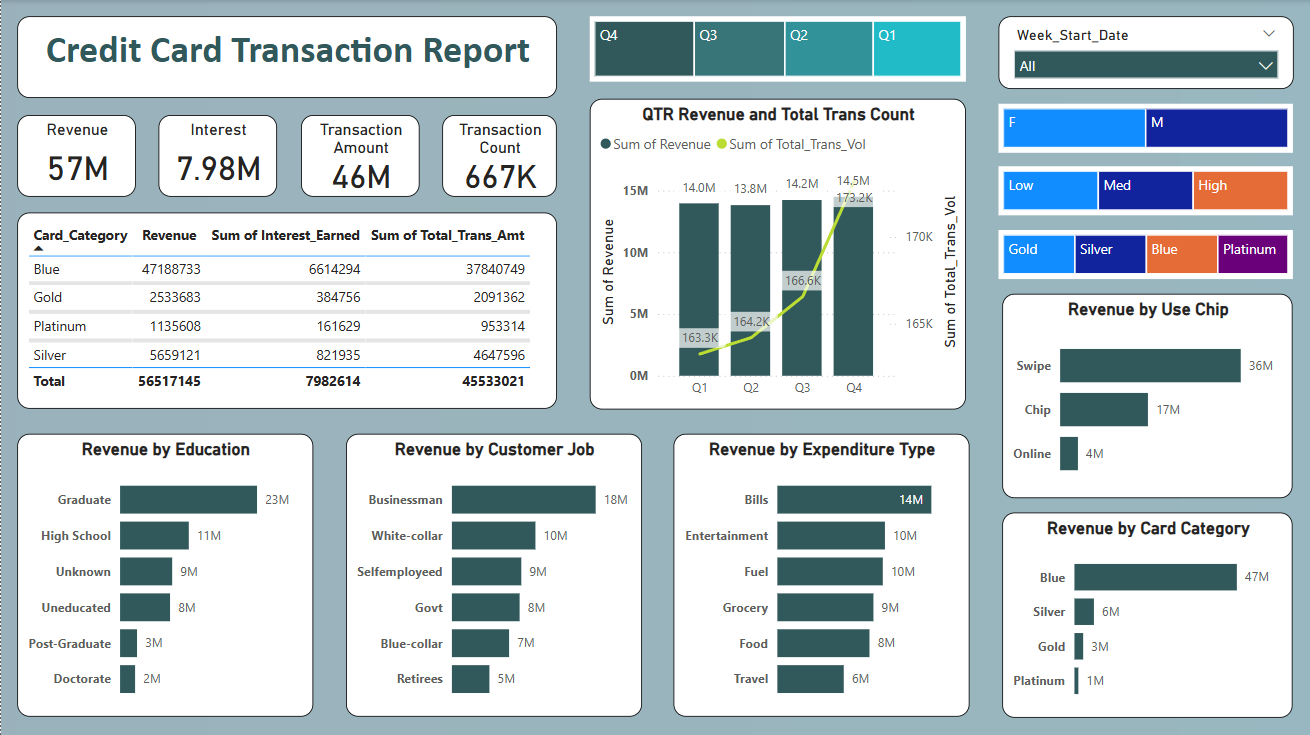

What the dashboard file says about the page in this screenshot:
{"tool":"powerbi","page":{"name":"CC_Transaction","canvas":[1280,720],"ordinal":1},"visuals":[{"type":"textbox","box":[16,16,528,80],"z":0},{"type":"lineStackedColumnComboChart","title":"QTR Revenue and Total Trans Count","fields":{"Category":["ccdb cc_detail.Qtr"],"Y":["Sum(ccdb cc_detail.Revenue)"],"Y2":["Sum(ccdb cc_detail.Total_Trans_Vol)"]},"box":[576,96,368,304],"z":1000},{"type":"barChart","title":"Revenue by Expenditure Type","fields":{"Y":["Sum(ccdb cc_detail.Revenue)"],"Category":["ccdb cc_detail.Exp Type"]},"box":[658.5,424.6,289.2,276.9],"z":2000},{"type":"barChart","title":"Revenue by Education","fields":{"Y":["Sum(ccdb cc_detail.Revenue)"],"Category":["ccdb cust_detail.Education_Level"]},"box":[16,424.6,289.2,276.9],"z":3000},{"type":"barChart","title":"Revenue by Customer Job","fields":{"Y":["Sum(ccdb cc_detail.Revenue)"],"Category":["ccdb cust_detail.Customer_Job"]},"box":[337.2,424.6,289.2,276.9],"z":4000},{"type":"barChart","title":"Revenue by Card Category","fields":{"Y":["Sum(ccdb cc_detail.Revenue)"],"Category":["ccdb cc_detail.Card_Category"]},"box":[979.7,500.9,284.3,200.6],"z":5000},{"type":"barChart","title":"Revenue by Use Chip","fields":{"Y":["Sum(ccdb cc_detail.Revenue)"],"Category":["ccdb cc_detail.Use Chip"]},"box":[979.7,287,284.3,200],"z":6000},{"type":"tableEx","fields":{"Values":["ccdb cc_detail.Card_Category","Sum(ccdb cc_detail.Revenue)","Sum(ccdb cc_detail.Interest_Earned)","Sum(ccdb cc_detail.Total_Trans_Amt)"]},"box":[16,208,528,192],"z":7000},{"type":"card","title":"Revenue","fields":{"Values":["Sum(ccdb cc_detail.Revenue)"]},"box":[16,112,116,80],"z":8000},{"type":"card","title":"Interest","fields":{"Values":["Sum(ccdb cc_detail.Interest_Earned)"]},"box":[154.7,112,116,80],"z":9000},{"type":"card","title":"Transaction Amount","fields":{"Values":["Sum(ccdb cc_detail.Total_Trans_Amt)"]},"box":[293.3,112,116,80],"z":10000},{"type":"card","title":"Transaction Count","fields":{"Values":["Sum(ccdb cc_detail.Total_Trans_Vol)"]},"box":[432,112,112,80],"z":11000},{"type":"slicer","fields":{"Values":["ccdb cc_detail.Week_Start_Date"]},"box":[975.5,15.9,288.5,70.9],"z":12000},{"type":"treemap","fields":{"Group":["ccdb cc_detail.Qtr"],"Values":["Avg(ccdb cc_detail.ï»¿Client_Num)"]},"box":[576,16,368,64],"z":13000},{"type":"treemap","fields":{"Values":["Avg(ccdb cc_detail.ï»¿Client_Num)"],"Group":["ccdb cust_detail.Gender"]},"box":[976,101.3,288,48],"z":14000},{"type":"treemap","fields":{"Group":["ccdb cc_detail.Card_Category"],"Values":["Avg(ccdb cc_detail.ï»¿Client_Num)"]},"box":[976,225.1,288,48],"z":15000},{"type":"treemap","fields":{"Group":["ccdb cust_detail.Income_Group"],"Values":["Avg(ccdb cc_detail.ï»¿Client_Num)"]},"box":[976,163.2,288,48],"z":16000}]}

Visuals, with their boxes in screenshot pixels (x1, y1, x2, y2), scaled from the page's 1280x720 canvas onto the 1310x735 screenshot:
textbox: BBox(16, 16, 557, 98)
"QTR Revenue and Total Trans Count" lineStackedColumnComboChart: BBox(590, 98, 966, 408)
"Revenue by Expenditure Type" barChart: BBox(674, 433, 970, 716)
"Revenue by Education" barChart: BBox(16, 433, 312, 716)
"Revenue by Customer Job" barChart: BBox(345, 433, 641, 716)
"Revenue by Card Category" barChart: BBox(1003, 511, 1294, 716)
"Revenue by Use Chip" barChart: BBox(1003, 293, 1294, 497)
tableEx - ccdb cc_detail.Card_Category x Sum(ccdb cc_detail.Revenue): BBox(16, 212, 557, 408)
"Revenue" card: BBox(16, 114, 135, 196)
"Interest" card: BBox(158, 114, 277, 196)
"Transaction Amount" card: BBox(300, 114, 419, 196)
"Transaction Count" card: BBox(442, 114, 557, 196)
slicer - ccdb cc_detail.Week_Start_Date: BBox(998, 16, 1294, 89)
treemap - ccdb cc_detail.Qtr x Avg(ccdb cc_detail.ï»¿Client_Num): BBox(590, 16, 966, 82)
treemap - Avg(ccdb cc_detail.ï»¿Client_Num) x ccdb cust_detail.Gender: BBox(999, 103, 1294, 152)
treemap - ccdb cc_detail.Card_Category x Avg(ccdb cc_detail.ï»¿Client_Num): BBox(999, 230, 1294, 279)
treemap - ccdb cust_detail.Income_Group x Avg(ccdb cc_detail.ï»¿Client_Num): BBox(999, 167, 1294, 216)
